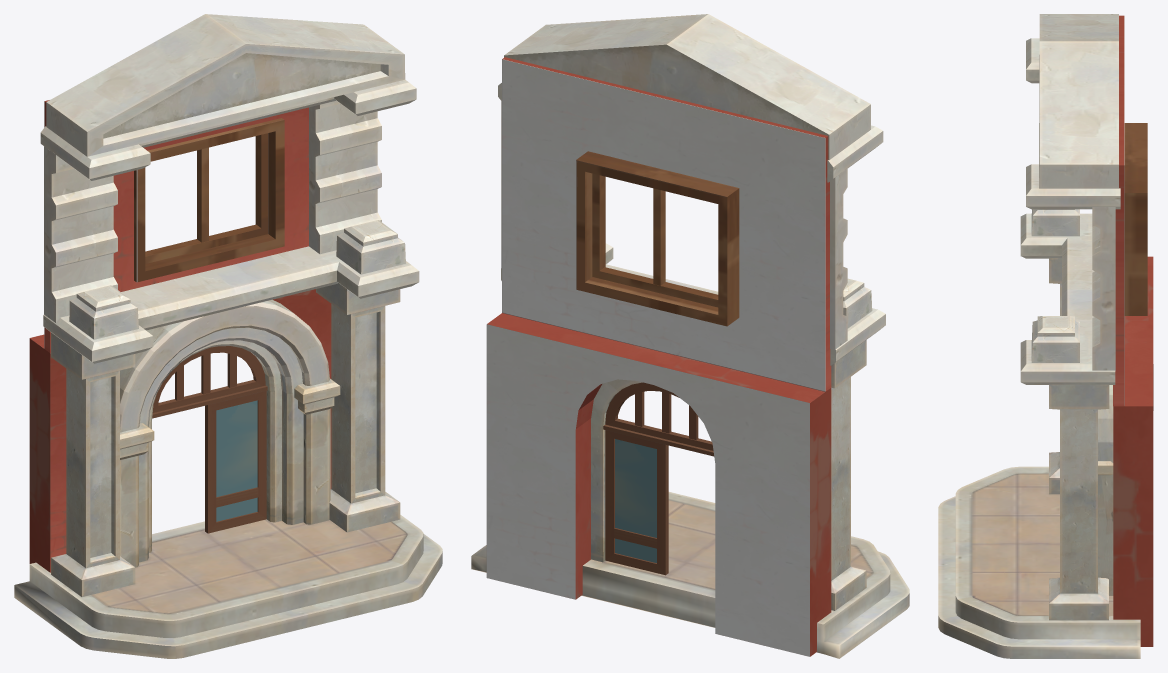
The model's file is mdl_doorhead_01.fbx.
The picture shows the model from 3 angles, left to right: view 1: azimuth 30°, elevation 25°; view 2: azimuth 150°, elevation 25°; view 3: azimuth 270°, elevation 25°; orthographic projection. The views are drawn at different scales.
Parts seen in each view (by area): view 1: luomadoor.010, luomadoor.011, luomadoor.002, luomadoor.004, luomadoor.012, sm_building_wall01_05_1.001, sm_building_wall01_05.001, luomadoor.021, luomadoor.006, luomadoor.001; view 2: sm_building_wall01_05_1.001, sm_building_wall01_03.001, luomadoor.010, luomadoor.011, luomadoor.012, luomadoor.002, luomadoor.021, luomadoor.006, luomadoor.001, luomadoor.004, sm_building_wall01_05.001; view 3: luomadoor.010, luomadoor.011, sm_building_wall01_05_1.001, luomadoor.002, luomadoor.012, sm_building_wall01_05.001, luomadoor.004, sm_building_wall01_03.001.
Boxes of the visible parts, x1,y1,x2,y2 form: luomadoor.010: [40, 14, 419, 363]; luomadoor.011: [14, 515, 442, 658]; luomadoor.002: [51, 283, 400, 596]; luomadoor.004: [120, 299, 340, 567]; luomadoor.012: [134, 118, 284, 282]; sm_building_wall01_05_1.001: [29, 289, 331, 572]; sm_building_wall01_05.001: [44, 100, 308, 353]; luomadoor.021: [205, 391, 266, 533]; luomadoor.006: [216, 400, 257, 521]; luomadoor.001: [152, 346, 267, 418]; sm_building_wall01_05_1.001: [486, 313, 831, 656]; sm_building_wall01_03.001: [502, 59, 825, 391]; luomadoor.010: [498, 14, 885, 365]; luomadoor.011: [471, 492, 909, 658]; luomadoor.012: [576, 151, 739, 326]; luomadoor.002: [831, 340, 866, 610]; luomadoor.021: [605, 430, 668, 575]; luomadoor.006: [615, 439, 656, 562]; luomadoor.001: [603, 382, 714, 456]; luomadoor.004: [591, 379, 642, 562]; sm_building_wall01_05.001: [502, 57, 831, 391]; luomadoor.010: [1020, 14, 1120, 384]; luomadoor.011: [938, 466, 1140, 658]; sm_building_wall01_05_1.001: [1113, 256, 1153, 646]; luomadoor.002: [1049, 258, 1109, 620]; luomadoor.012: [1124, 123, 1147, 315]; sm_building_wall01_05.001: [1113, 15, 1124, 406]; luomadoor.004: [1098, 385, 1113, 595]; sm_building_wall01_03.001: [1124, 16, 1124, 405].
Size of the model in its own units: 583 by 849 by 311.
Materials: 3 (3 with a texture image).
